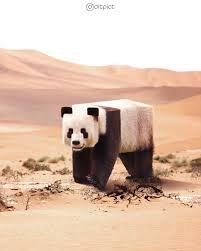bear: (61, 97, 153, 188)
